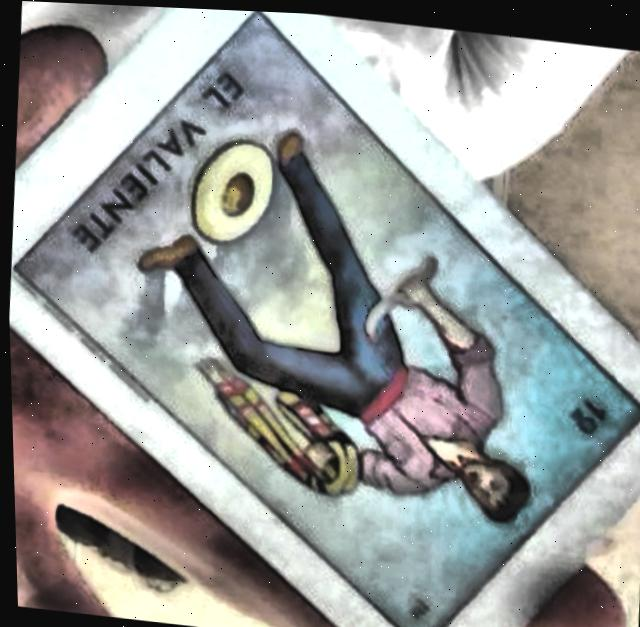El Valiente: (13, 9, 634, 627)
